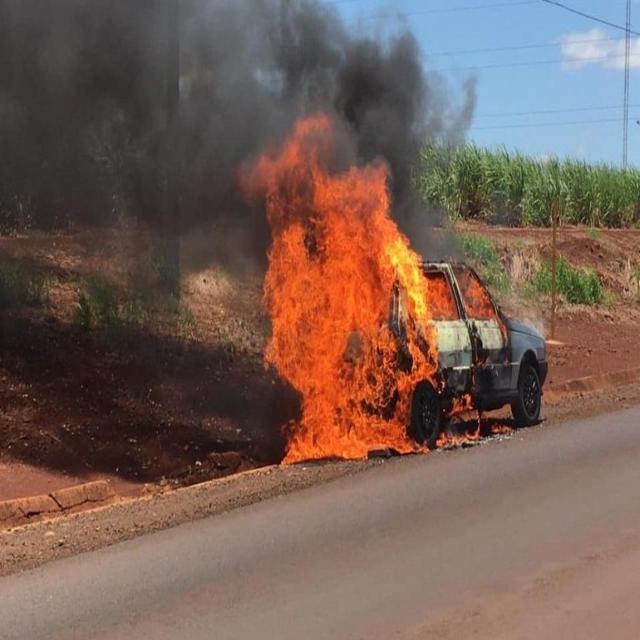Fire: (234, 117, 516, 469)
Smoke: (0, 0, 478, 116), (0, 112, 224, 346)
